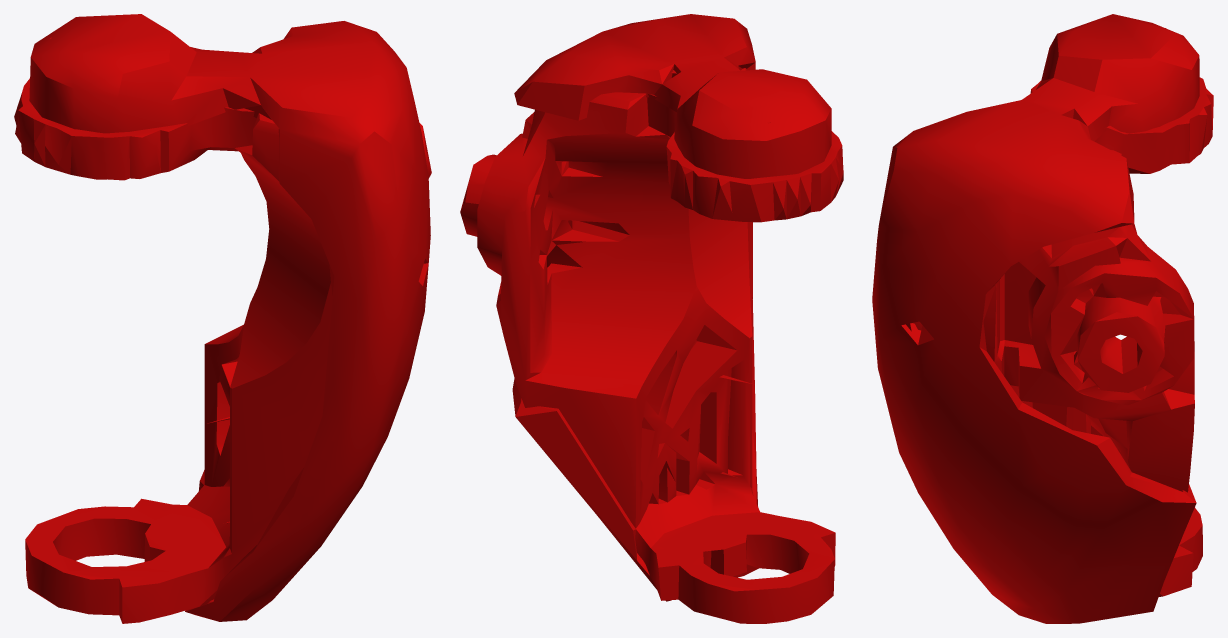
File: LYawPitch.obj
3 renders of one model, left to right at view 1: azimuth 30°, elevation 25°; view 2: azimuth 150°, elevation 25°; view 3: azimuth 270°, elevation 25°, orthographic. The views are drawn at different scales.
Parts seen in each view (by area): view 1: LYawPitch_Mesh.014; view 2: LYawPitch_Mesh.014; view 3: LYawPitch_Mesh.014.
Part boxes in pixels (x1,y1,x2,y2): LYawPitch_Mesh.014: (14, 14, 431, 623); LYawPitch_Mesh.014: (460, 14, 843, 623); LYawPitch_Mesh.014: (872, 14, 1213, 623).
Size of the model in its own units: 64.64 by 91.32 by 52.3.
